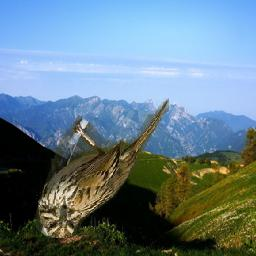Sparrow: (37, 98, 170, 238)
